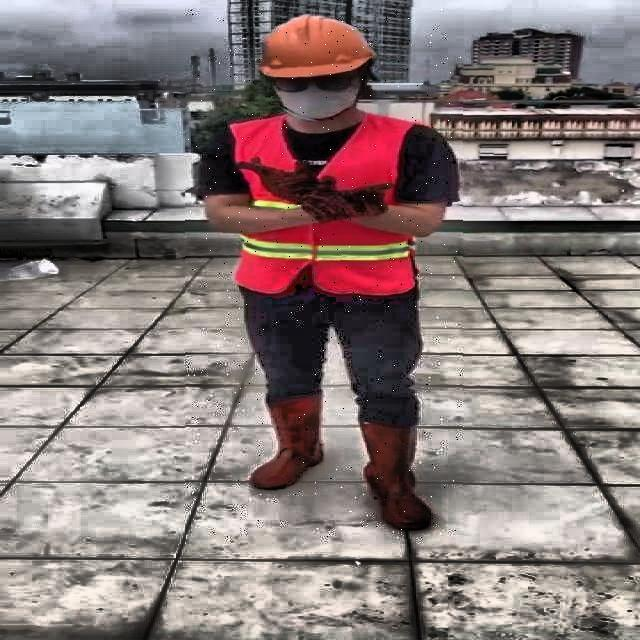safety_helmet: (253, 11, 379, 80)
safety_jacket: (226, 118, 420, 296)
